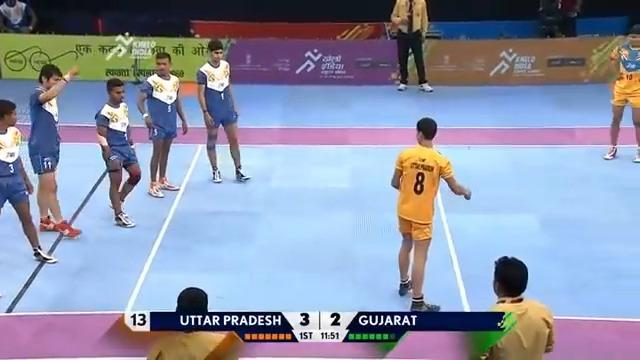Player: (26, 62, 82, 239), (0, 98, 58, 264), (195, 38, 251, 183), (135, 51, 188, 197), (94, 77, 141, 228), (602, 39, 639, 162)
Raider: (390, 116, 471, 311)
referee: (475, 255, 555, 359), (389, 0, 434, 92)
